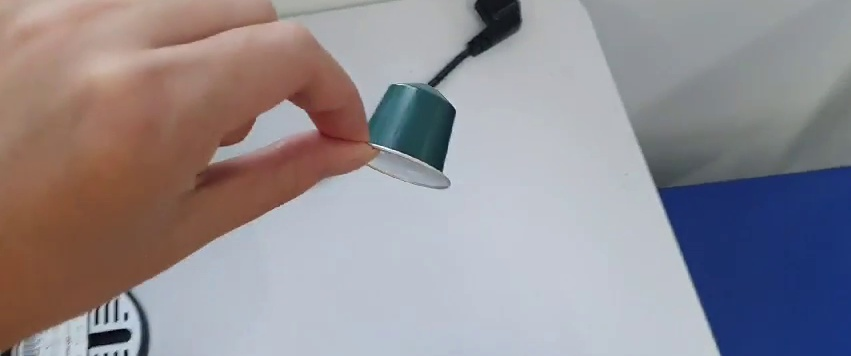capsule_13: (348, 80, 460, 192)
